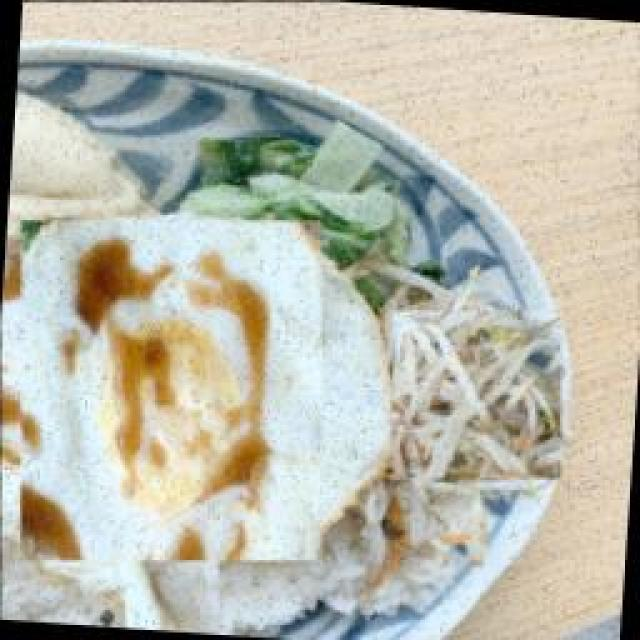fried_eggs: (0, 207, 352, 572)
mung_bean_sprouts: (380, 298, 573, 491)
rice: (55, 468, 293, 638)
